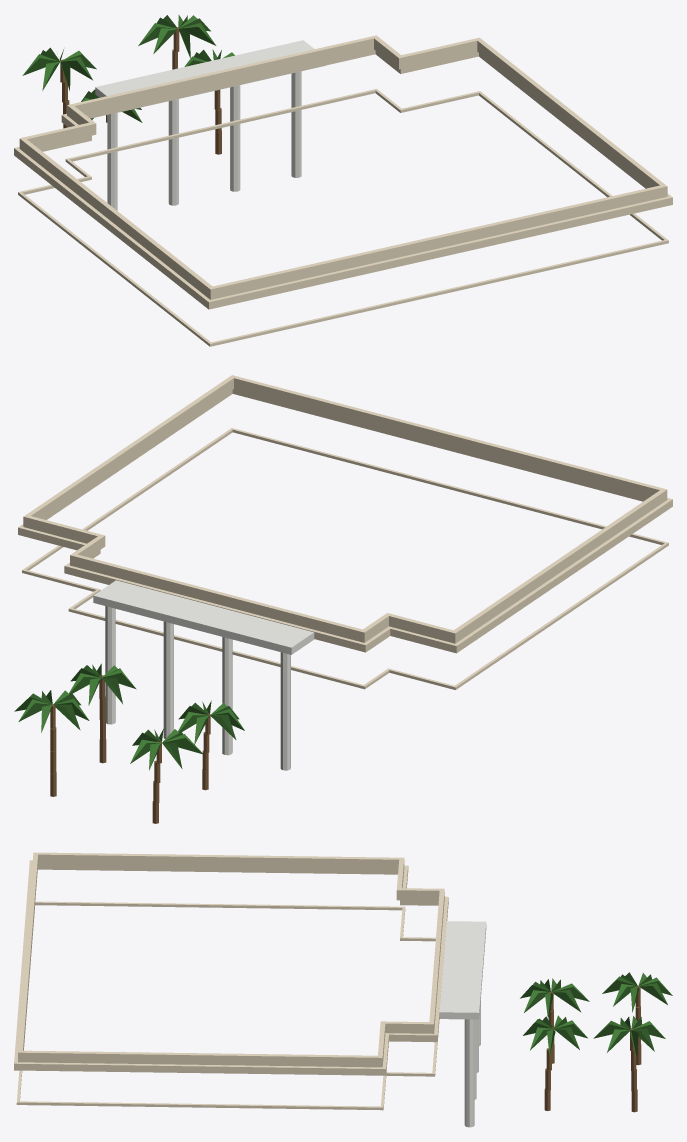
File: kutuphane.glb
The picture shows the model from 3 angles, top to bottom: view 1: azimuth 30°, elevation 25°; view 2: azimuth 150°, elevation 25°; view 3: azimuth 270°, elevation 25°; orthographic projection. The views are drawn at different scales.
Parts seen in each view (by area): view 1: kutuphane; view 2: kutuphane; view 3: kutuphane.
Part boxes in pixels (bbox=[...]): kutuphane: bbox=[14, 14, 672, 346]; kutuphane: bbox=[14, 375, 672, 823]; kutuphane: bbox=[14, 852, 672, 1127].
Bounding box in the file's own units: 39.84 × 11.4 × 53.17.
